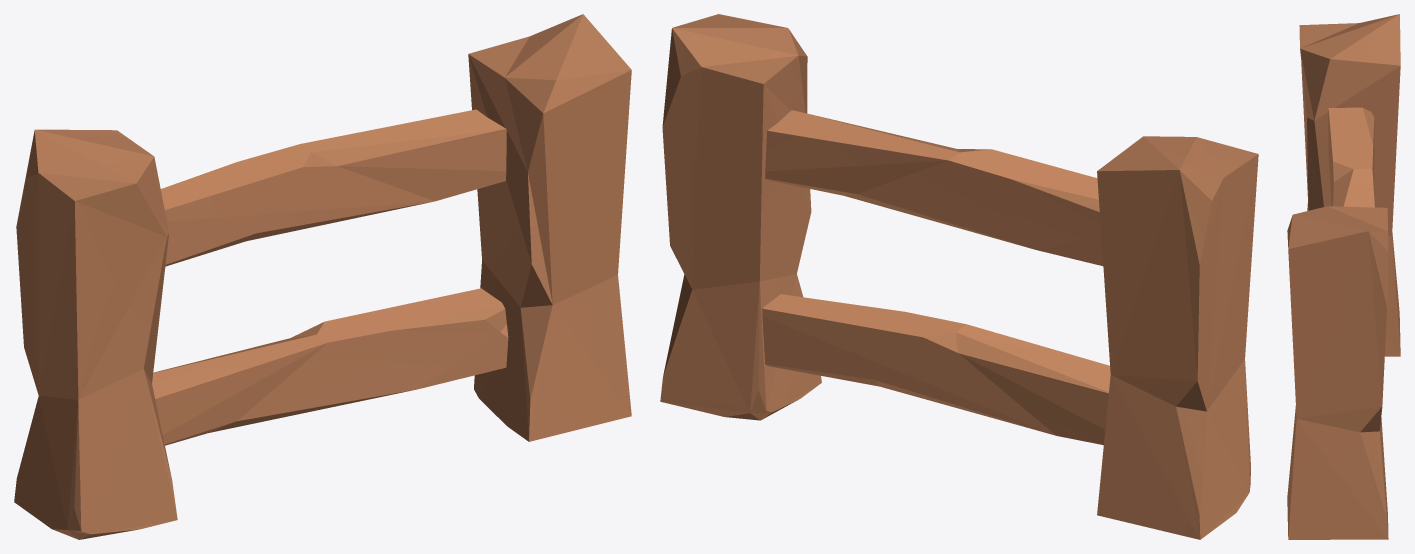
Rendered from Ic_Cit_003.fbx.
The picture shows the model from 3 angles, left to right: view 1: azimuth 30°, elevation 25°; view 2: azimuth 150°, elevation 25°; view 3: azimuth 270°, elevation 25°; orthographic projection. The views are drawn at different scales.
Parts seen in each view (by area): view 1: Ic_Cit_003; view 2: Ic_Cit_003; view 3: Ic_Cit_003.
Part boxes in pixels (left/top/right/bottom): Ic_Cit_003: left=14, top=14, right=631, bottom=539; Ic_Cit_003: left=660, top=14, right=1258, bottom=539; Ic_Cit_003: left=1287, top=14, right=1400, bottom=539.
Size of the model in its own units: 62.39 by 39.75 by 13.24.
